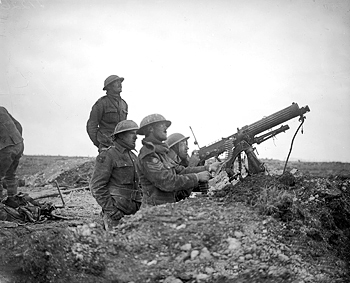rifle: (223, 100, 316, 173)
rifle in hand: (184, 99, 320, 193)
